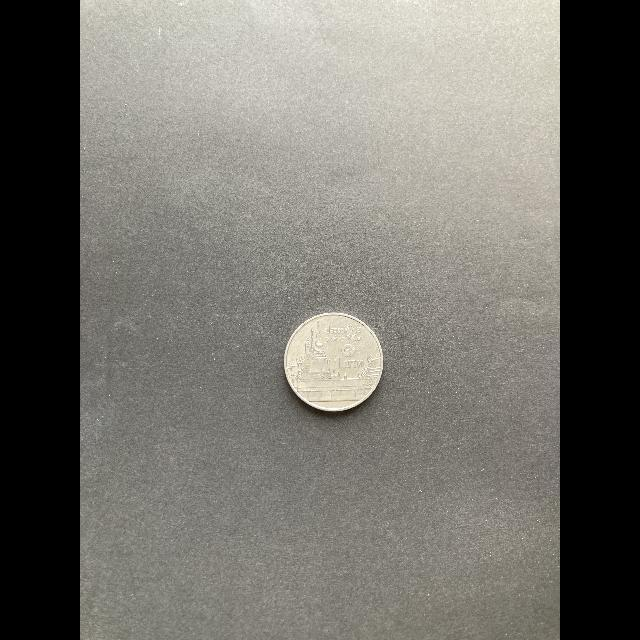1 Bath: (281, 310, 389, 419)
